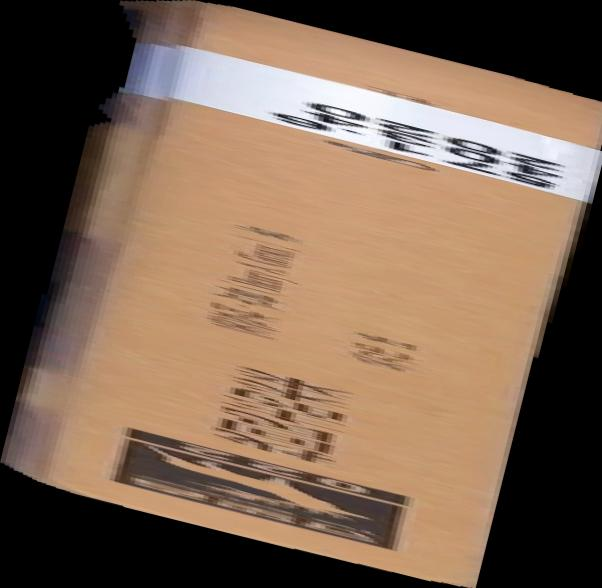reverse: (1, 1, 602, 588)
